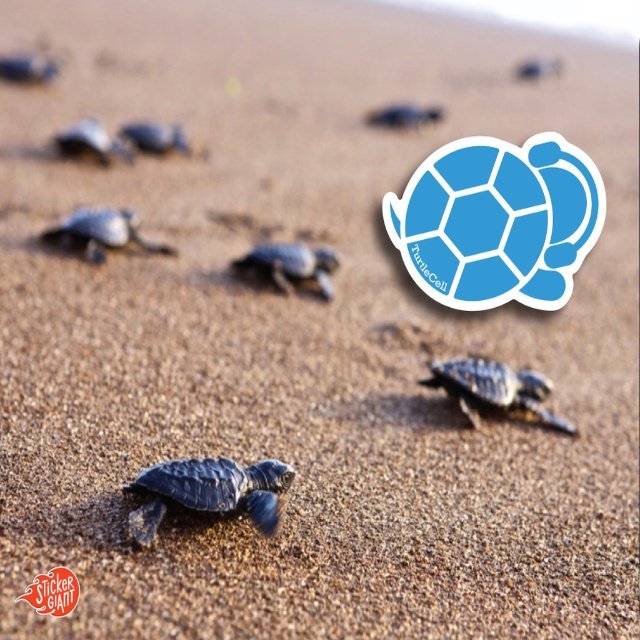Sea turtle: (109, 450, 299, 552), (413, 353, 583, 436), (35, 203, 179, 267), (229, 242, 344, 302), (49, 116, 133, 170), (121, 116, 191, 158), (365, 101, 447, 127), (0, 56, 60, 82), (522, 59, 549, 77)
